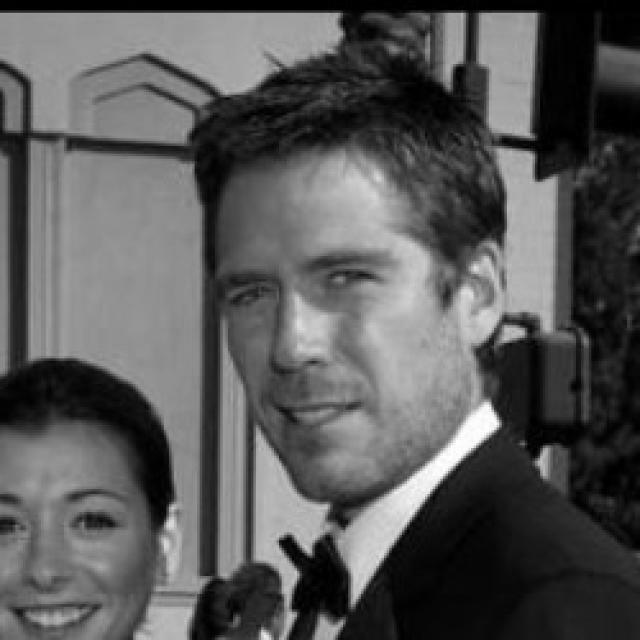real: (204, 88, 482, 476), (0, 357, 164, 640), (231, 257, 395, 328), (0, 507, 123, 548)
